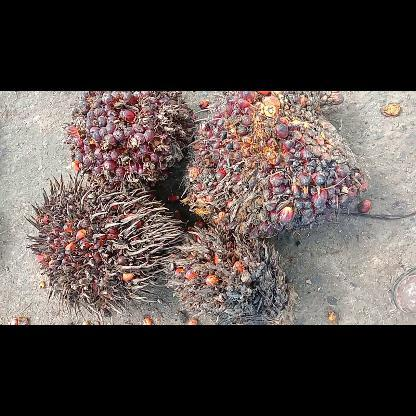TBS masak: (182, 90, 362, 238), (65, 91, 191, 195)
Terlalu masak: (24, 172, 182, 324), (165, 226, 296, 324)
